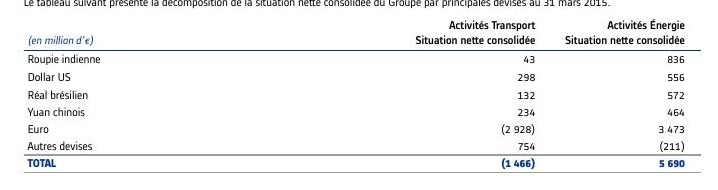table: (0, 0, 718, 190)
